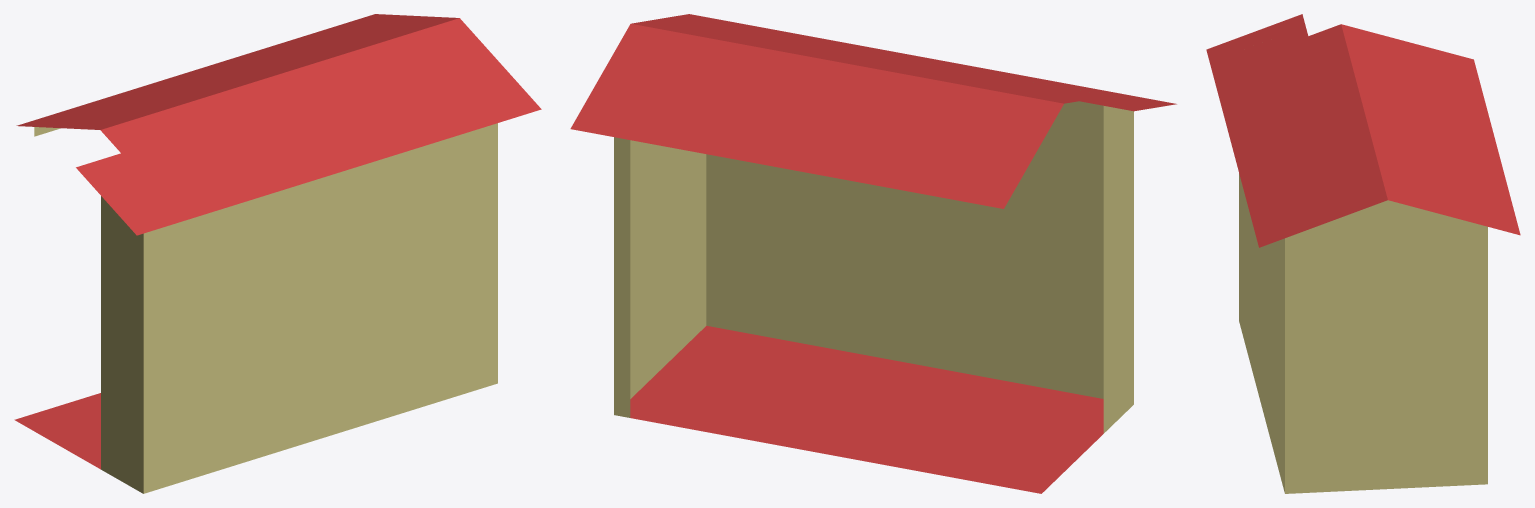
The picture shows the model from 3 angles, left to right: view 1: azimuth 30°, elevation 25°; view 2: azimuth 150°, elevation 25°; view 3: azimuth 270°, elevation 25°; orthographic projection. The views are drawn at different scales.
Bounding box in the file's own units: 12.22 × 8.01 × 8.47.
